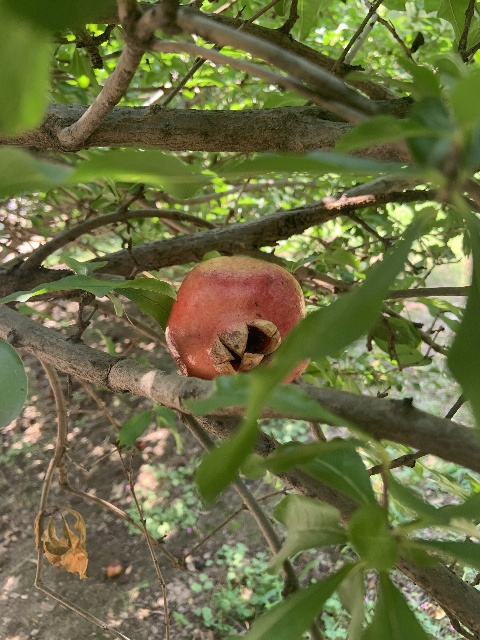ripe: (165, 255, 310, 382)
